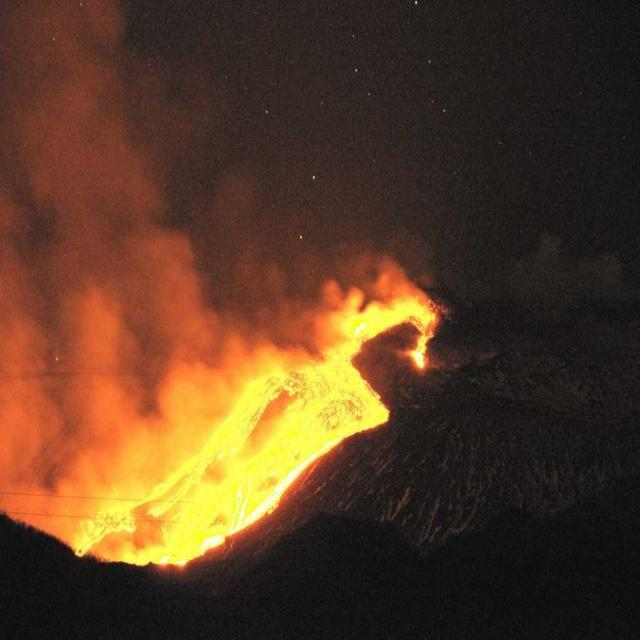Fire: (250, 366, 358, 448), (146, 446, 226, 544)
Smoke: (8, 9, 104, 320)
